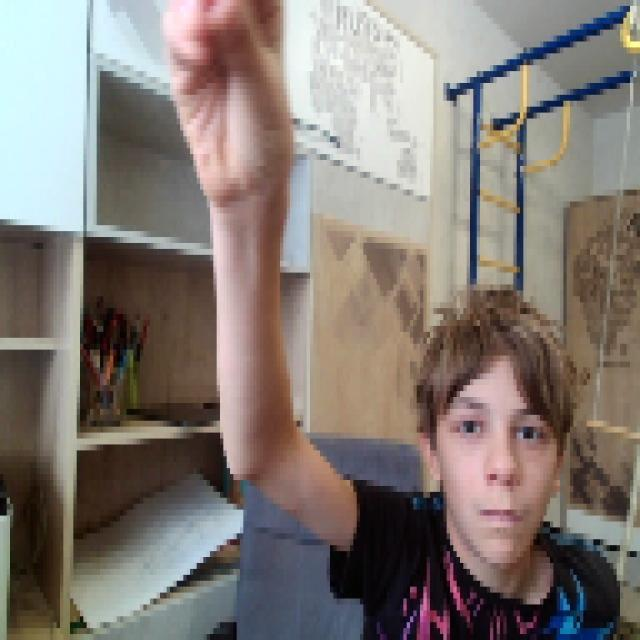left_click: (160, 0, 290, 201)
